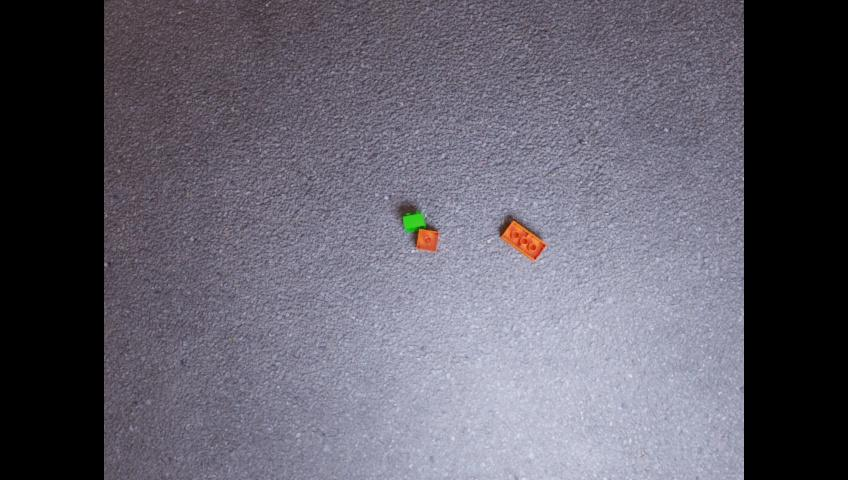2x2_green: (403, 211, 425, 232)
2x2_orange: (417, 230, 438, 252)
4x2_orange: (500, 220, 545, 260)
